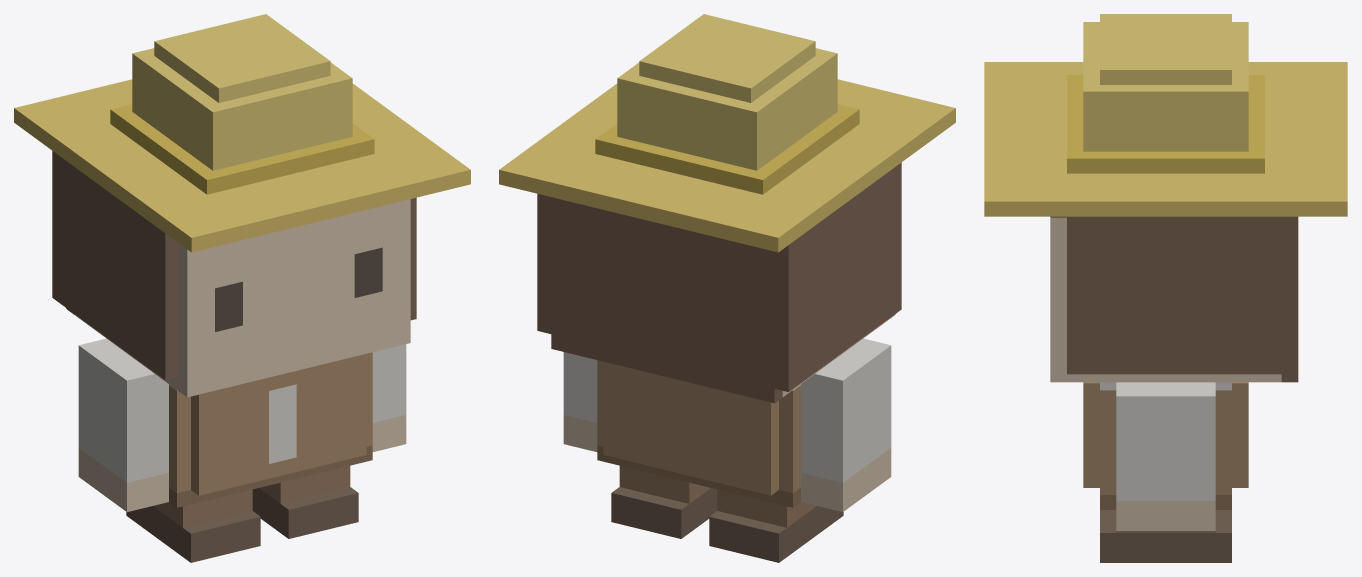
File: resident-body.gltf
3 views of the same model, side by side, from view 1: azimuth 30°, elevation 25°; view 2: azimuth 150°, elevation 25°; view 3: azimuth 270°, elevation 25° (orthographic). The views are drawn at different scales.
Visible parts, largest first — view 1: resident; view 2: resident; view 3: resident.
Part boxes in pixels (x1=…): resident: x1=14, y1=14, x2=470, y2=562; resident: x1=499, y1=14, x2=955, y2=562; resident: x1=984, y1=14, x2=1347, y2=562.
Size of the model in its own units: 0.625 by 1 by 0.6875.
